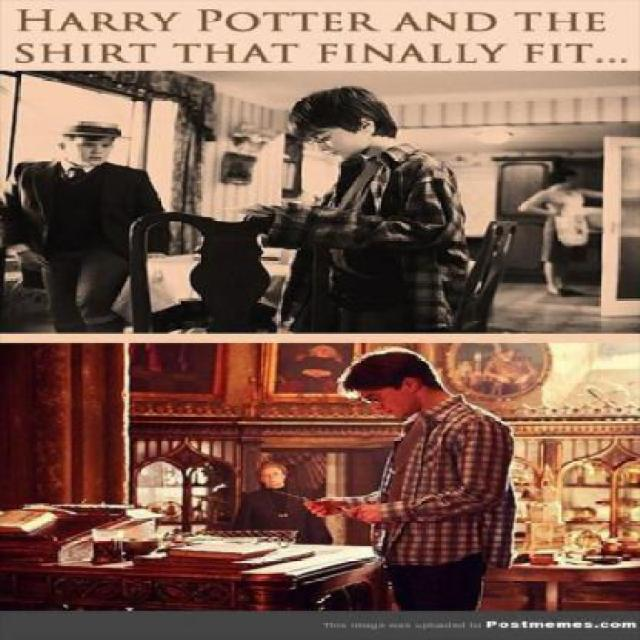Person: (226, 93, 477, 352), (301, 353, 505, 612), (0, 117, 175, 333), (512, 162, 600, 300), (233, 459, 339, 546)
